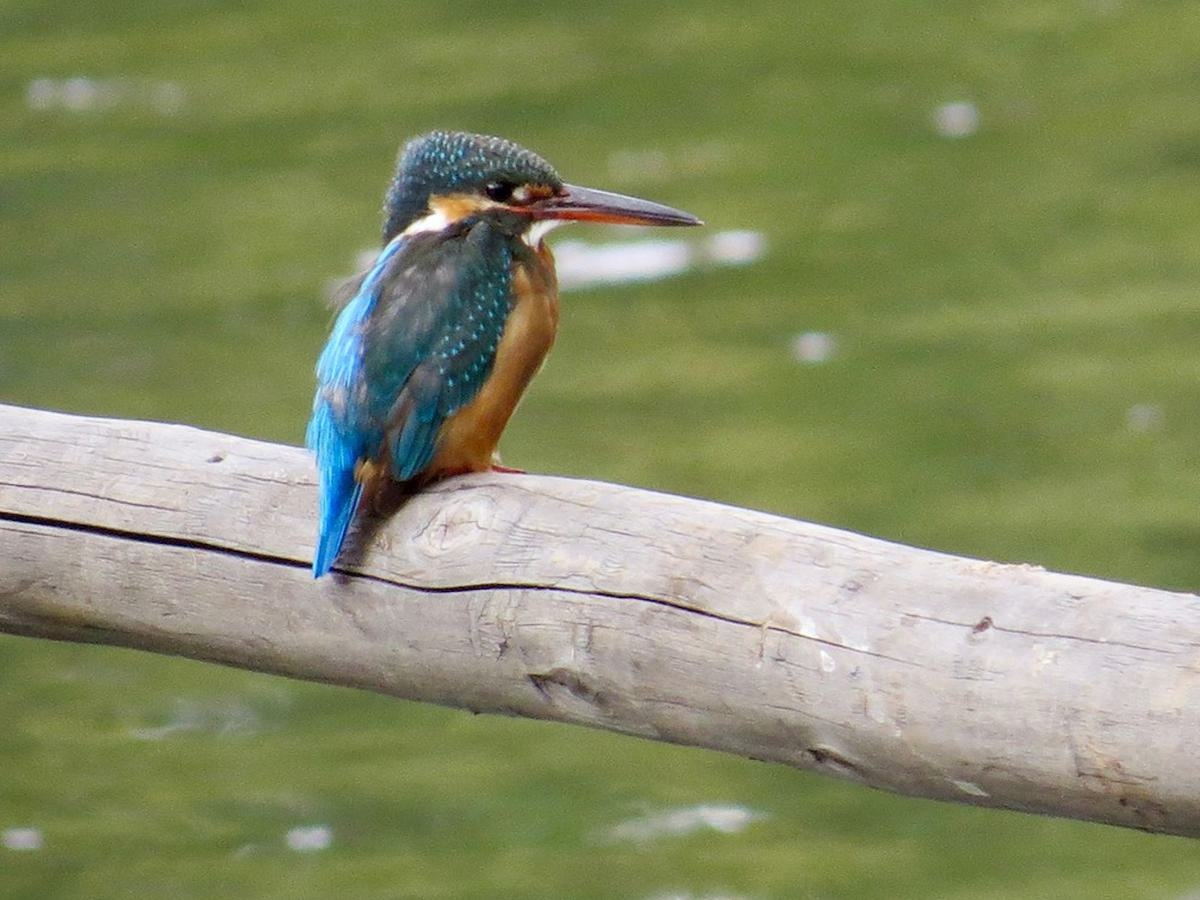kingfisher: (310, 111, 696, 586)
